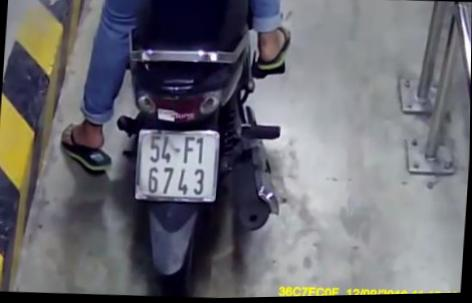LP: (133, 127, 223, 206)
